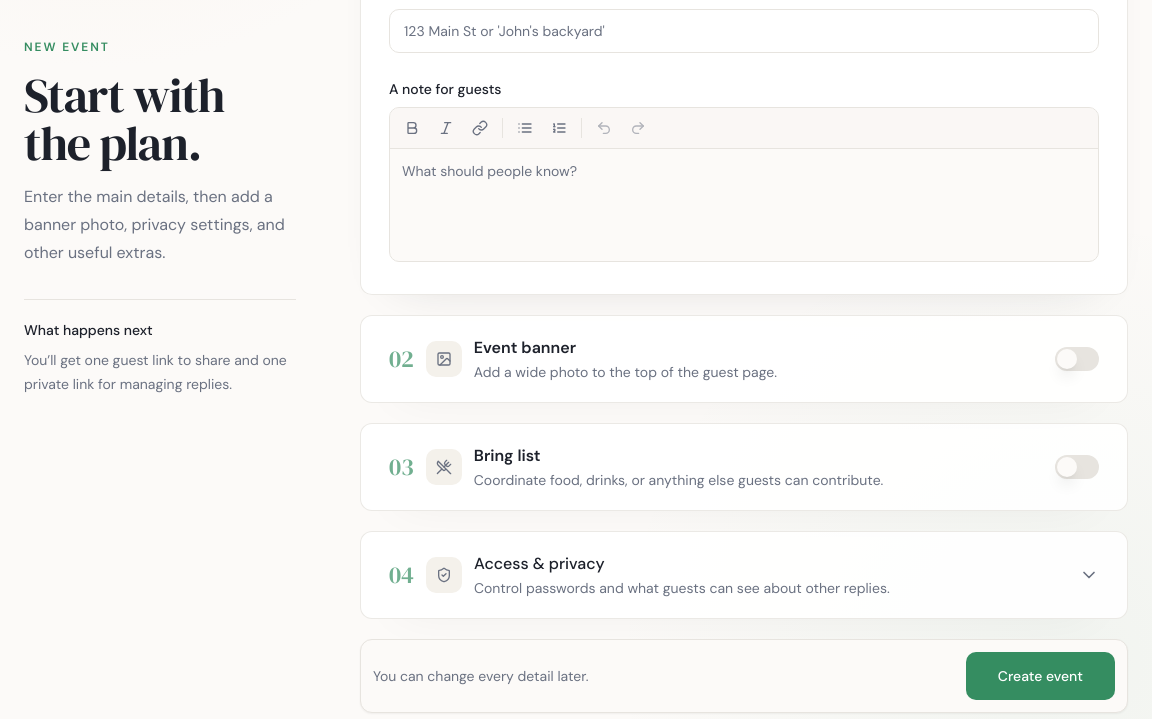
CreateEvent sections › keeps each optional section independently discoverable
The width and height of the screenshot is (1152, 719).
(page scrolled)
Click the switch named "Add an event banner".
click(1077, 359)  # box [1055,347,1099,371]
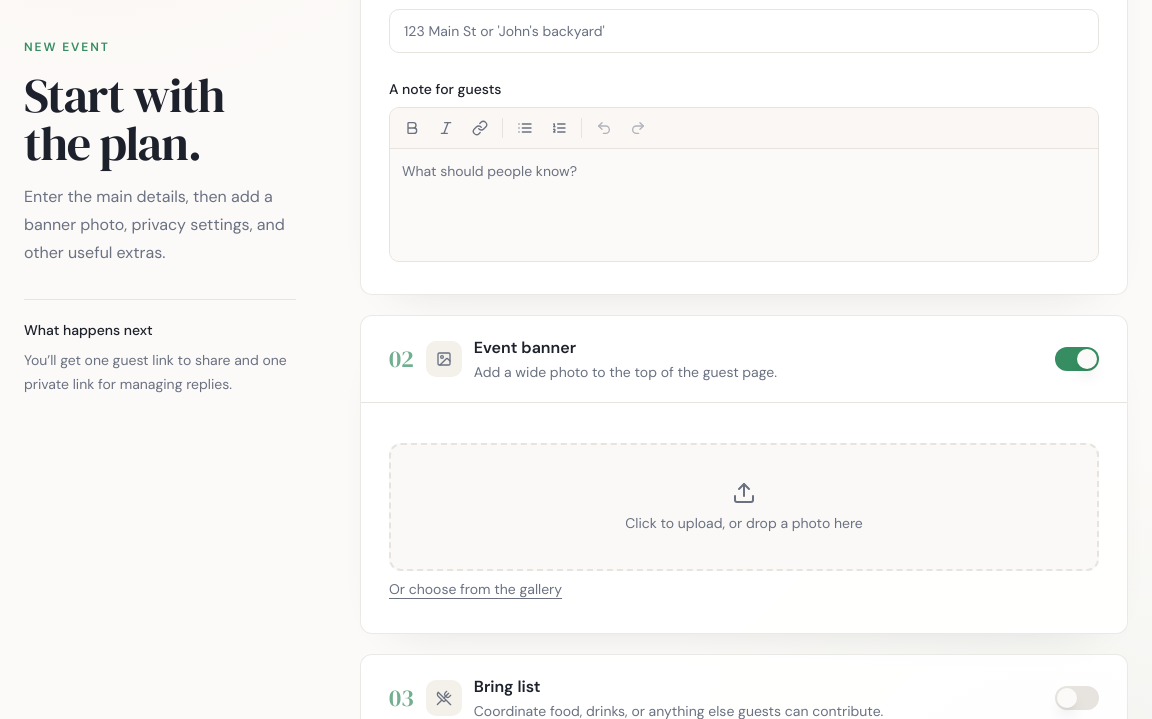
expect the text "Message for guests" is not shown: met
expect the file field named "Banner photo" is shown: met, box [389,443,1099,571]
Click the switch named "Enable bring list".
click(1077, 698)  # box [1055,686,1099,710]
(page scrolled)
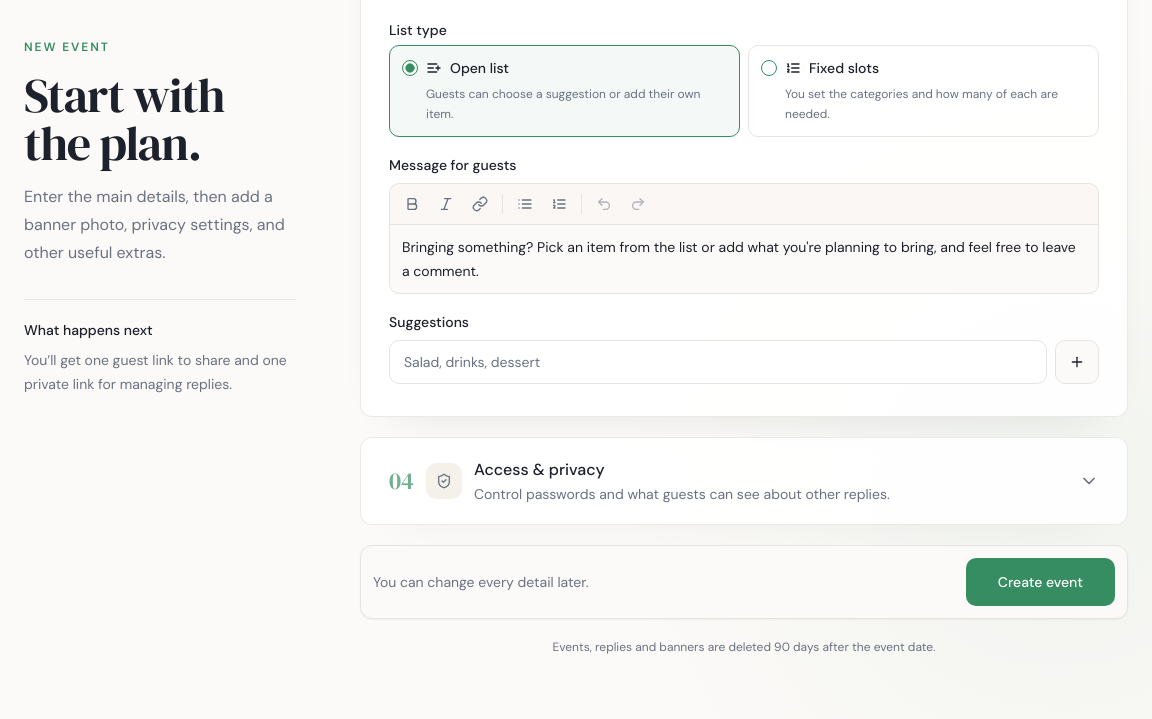
expect the text "Guest list privacy" is not shown: met
expect the text "Message for guests" is shown: met, box [389,156,516,174]
Click the button "Access & privacy".
click(444, 481)  # box [361,438,1127,524]
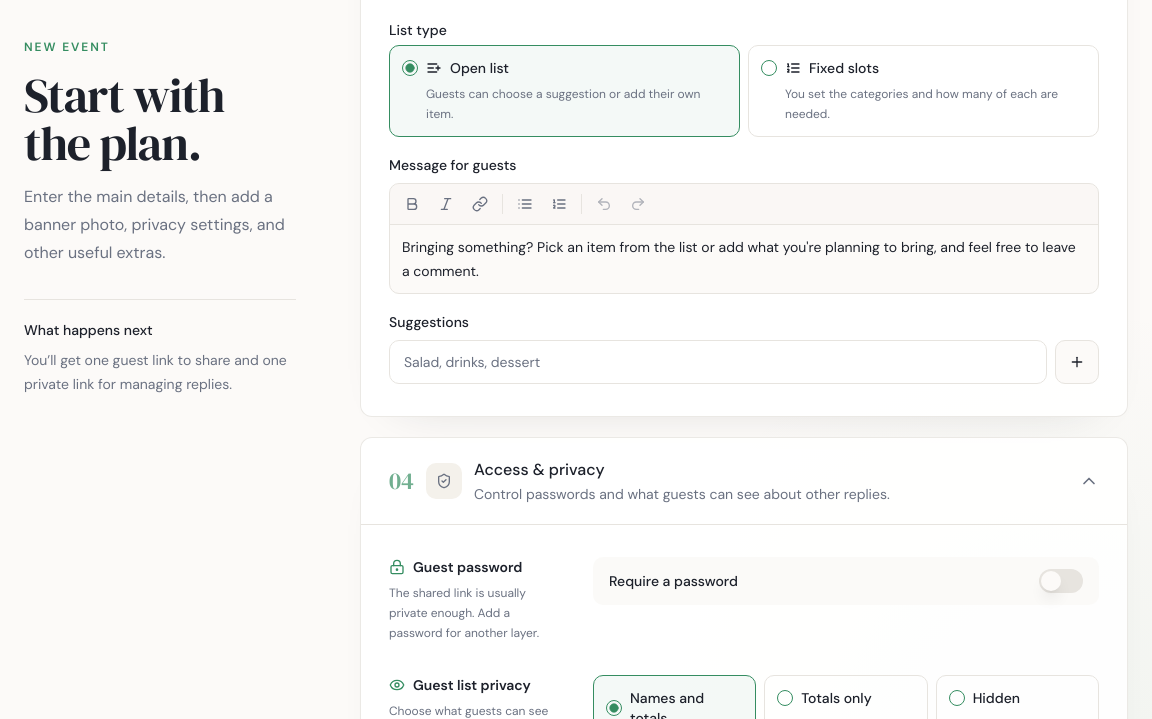
expect the text "Guest list privacy" is shown: met, box [389,676,531,694]
